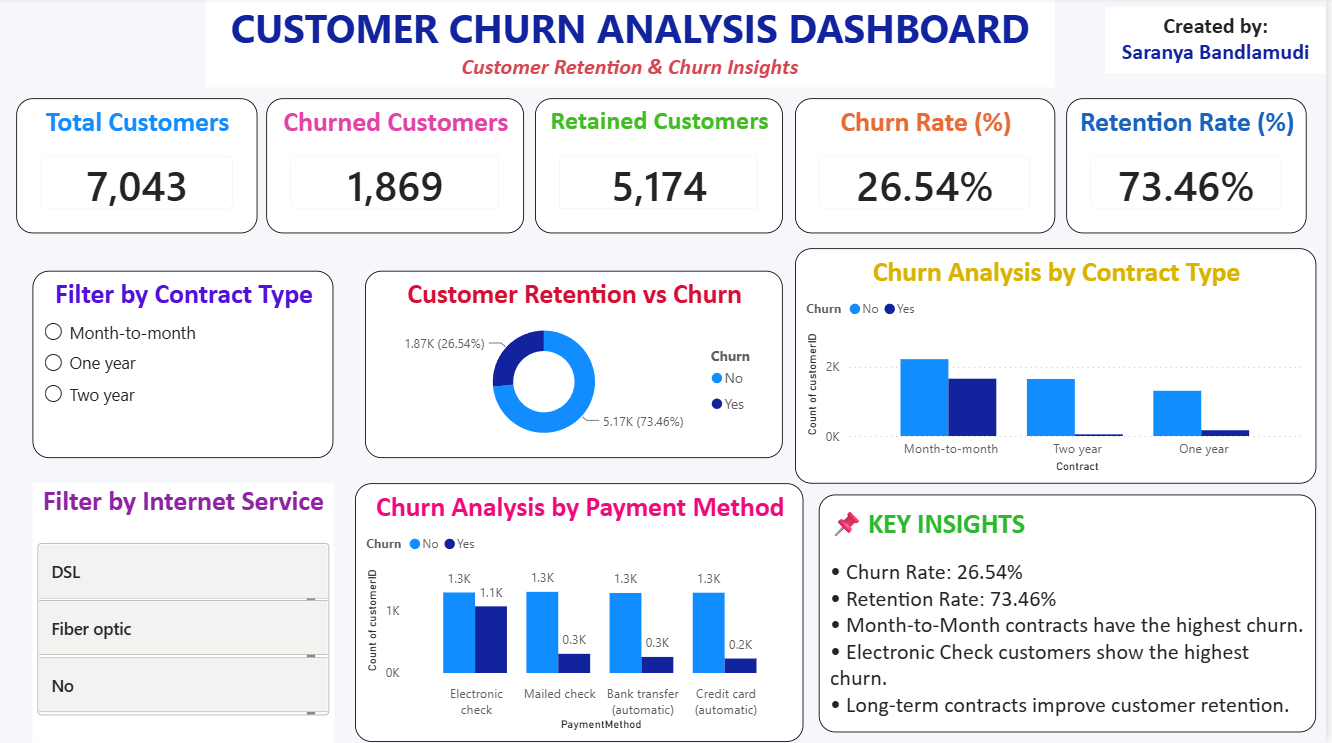

The page's visual inventory and layout, read from the dashboard file:
{"tool":"powerbi","page":{"name":"Customer Churn Dashboard","canvas":[1280,720],"ordinal":0},"visuals":[{"type":"cardVisual","title":"Total Customers","fields":{"Data":["CountNonNull(Raw Data.customerID)"]},"box":[15.7,97.7,232.8,130.3],"z":0},{"type":"cardVisual","title":"Churned Customers","fields":{"Data":["CountNonNull(Raw Data.customerID)"]},"box":[257,97.7,248.5,130.3],"z":1000},{"type":"cardVisual","title":"Retained Customers","fields":{"Data":["CountNonNull(Raw Data.customerID)"]},"box":[516.4,97.7,238.9,130.3],"z":2000},{"type":"cardVisual","title":"Churn Rate (%)","fields":{"Data":["Raw Data.Churn Rate"]},"box":[767.3,97.7,250.9,130.3],"z":3000},{"type":"donutChart","title":"Customer Retention vs Churn","fields":{"Category":["Raw Data.Churn"],"Y":["CountNonNull(Raw Data.customerID)"]},"box":[352.3,264.2,403,181],"z":4000},{"type":"clusteredColumnChart","title":"Churn Analysis by Contract Type","fields":{"Category":["Raw Data.Contract"],"Y":["CountNonNull(Raw Data.customerID)"],"Series":["Raw Data.Churn"]},"box":[767.3,242.5,503.1,226.8],"z":5000},{"type":"listSlicer","title":"Filter by Contract Type","fields":{"Values":["Raw Data.Contract"]},"box":[31.4,264.2,290.8,181],"z":6000},{"type":"textbox","box":[197.9,0,820.4,86.9],"z":7000},{"type":"clusteredColumnChart","title":"Churn Analysis by Payment Method","fields":{"Category":["Raw Data.PaymentMethod"],"Y":["CountNonNull(Raw Data.customerID)"],"Series":["Raw Data.Churn"]},"box":[342.6,469.3,433.1,249.7],"z":7001},{"type":"cardVisual","title":"Retention Rate (%)","fields":{"Data":["Raw Data.Retention Rate"]},"box":[1029.1,97.7,231.6,130.3],"z":7002},{"type":"cardVisual","title":"Filter by Internet Service","fields":{"Rows":["Raw Data.InternetService"]},"box":[31,469,291,250],"z":7003},{"type":"textbox","box":[790.2,480.2,480.2,229.2],"z":7004},{"type":"textbox","box":[1066.5,9.7,213.5,63.9],"z":7005}]}

Visuals, with their boxes in screenshot pixels (x1, y1, x2, y2), scaled from the page's 1280x720 canvas onto the 1332x743 screenshot:
"Total Customers" cardVisual: detection(16, 101, 259, 235)
"Churned Customers" cardVisual: detection(267, 101, 526, 235)
"Retained Customers" cardVisual: detection(537, 101, 786, 235)
"Churn Rate (%)" cardVisual: detection(798, 101, 1060, 235)
"Customer Retention vs Churn" donutChart: detection(367, 273, 786, 459)
"Churn Analysis by Contract Type" clusteredColumnChart: detection(798, 250, 1322, 484)
"Filter by Contract Type" listSlicer: detection(33, 273, 335, 459)
textbox: detection(206, 0, 1060, 90)
"Churn Analysis by Payment Method" clusteredColumnChart: detection(357, 484, 807, 742)
"Retention Rate (%)" cardVisual: detection(1071, 101, 1312, 235)
"Filter by Internet Service" cardVisual: detection(32, 484, 335, 742)
textbox: detection(822, 496, 1322, 732)
textbox: detection(1110, 10, 1331, 76)
